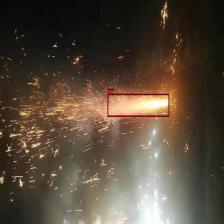fire: (107, 94, 169, 116)
